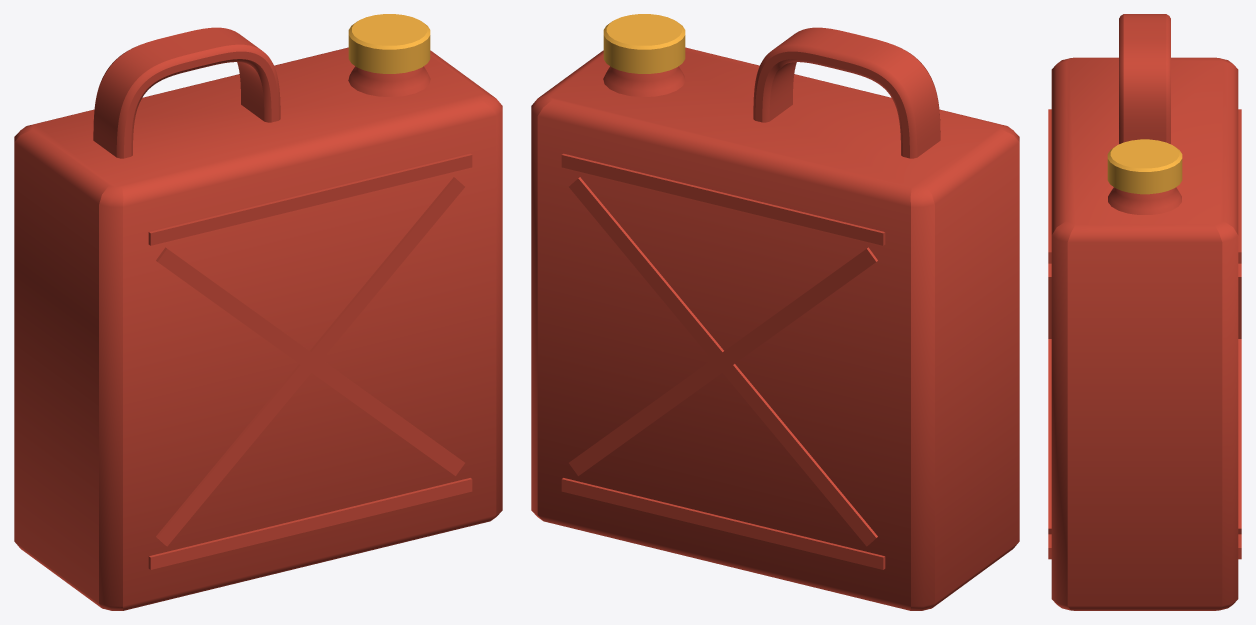
Rendered from container_jerrycan_lod1.glb.
The picture shows the model from 3 angles, left to right: view 1: azimuth 30°, elevation 25°; view 2: azimuth 150°, elevation 25°; view 3: azimuth 270°, elevation 25°; orthographic projection. The views are drawn at different scales.
Visible parts, largest first — view 1: Body, Handle, Cap; view 2: Body, Handle, Cap; view 3: Body, Handle, Cap.
Boxes of the visible parts, left/top/right/bottom form: Body: left=14, top=47, right=502, bottom=610; Handle: left=93, top=27, right=280, bottom=158; Cap: left=348, top=14, right=430, bottom=73; Body: left=531, top=47, right=1019, bottom=610; Handle: left=753, top=27, right=940, bottom=158; Cap: left=603, top=14, right=685, bottom=73; Body: left=1048, top=57, right=1241, bottom=610; Handle: left=1119, top=14, right=1170, bottom=143; Cap: left=1107, top=139, right=1182, bottom=194.
Bounding box in the file's own units: 0.3388 × 0.4088 × 0.154.
